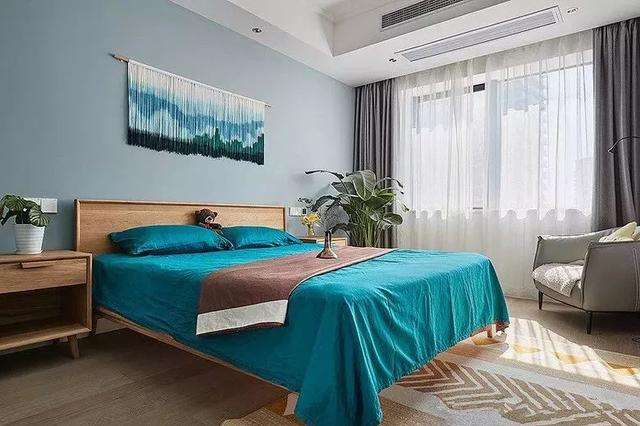床: (89, 243, 515, 403)
枕头: (108, 216, 295, 258)
灯: (248, 26, 263, 35)
